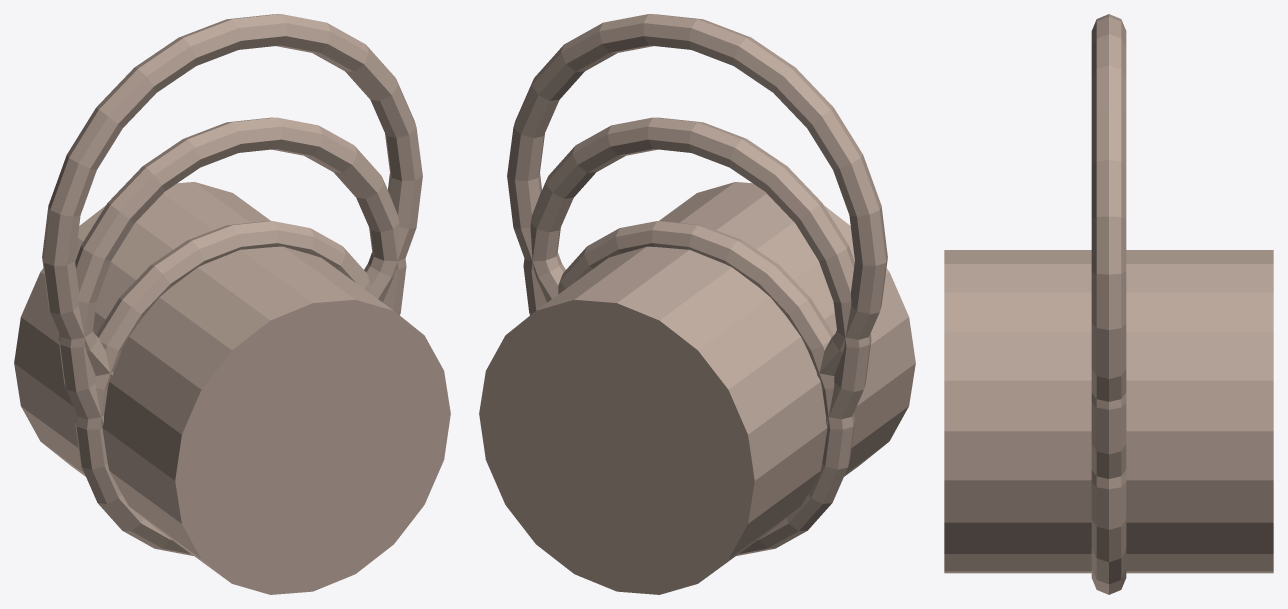
File: tech_141.glb
3 renders of one model, left to right at view 1: azimuth 30°, elevation 25°; view 2: azimuth 150°, elevation 25°; view 3: azimuth 270°, elevation 25°, orthographic. The views are drawn at different scales.
Visible parts, largest first — view 1: world; view 2: world; view 3: world.
Boxes of the visible parts, box(x1,y1,x2,y2) form: world: box(14, 14, 450, 594); world: box(479, 14, 915, 594); world: box(944, 14, 1273, 594).
Bounding box in the file's own units: 1.15 × 1.55 × 0.85.
